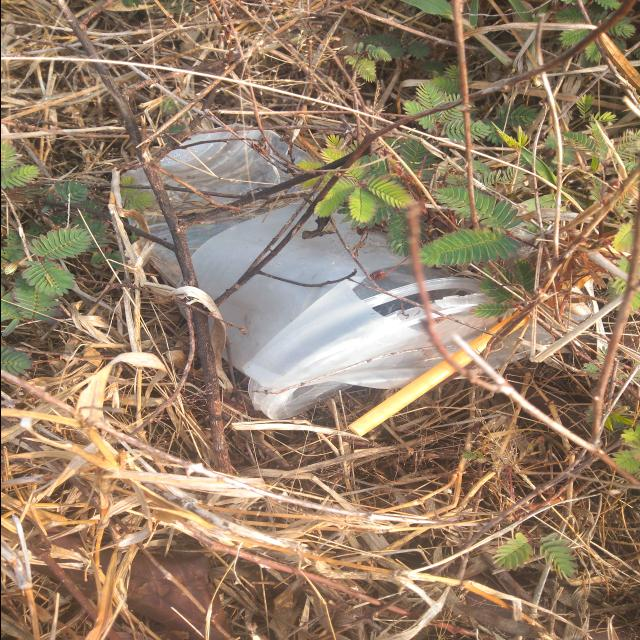Disposable plastic cup: (118, 123, 510, 420)
Plastic lid: (258, 295, 507, 420)
Plastic straw: (347, 309, 531, 438)
